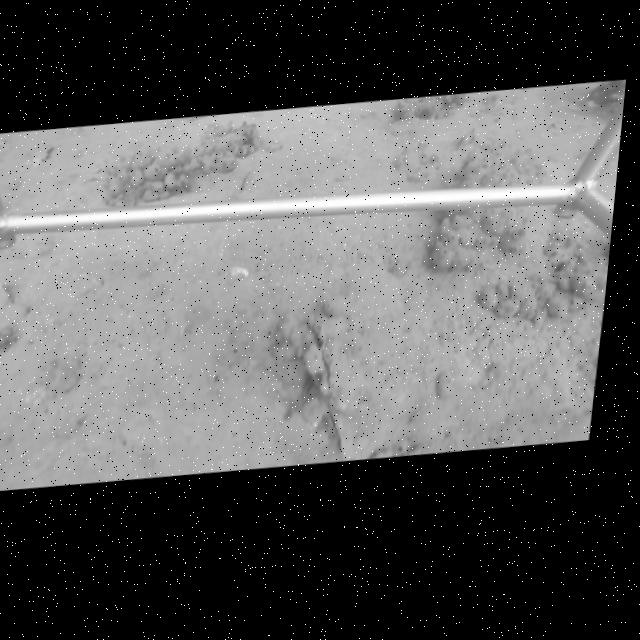Oyster-Closed: (303, 313, 375, 460)
